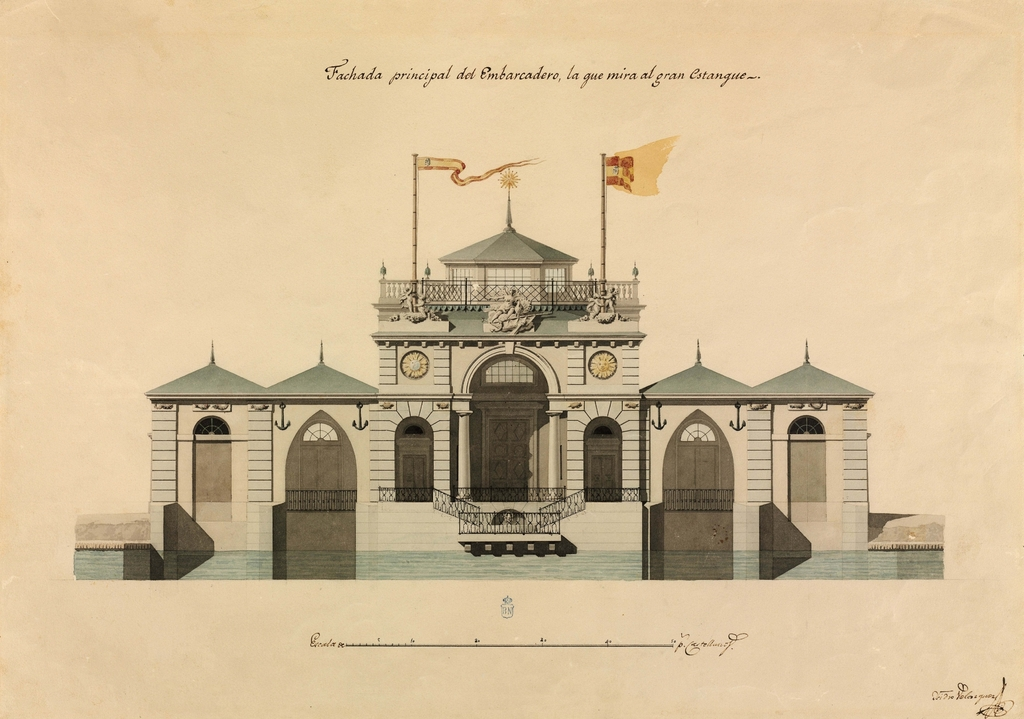Door: (468, 385, 545, 515), (193, 443, 235, 522), (790, 440, 828, 521), (298, 447, 339, 514), (678, 443, 719, 508), (589, 455, 621, 501), (403, 453, 433, 501)
